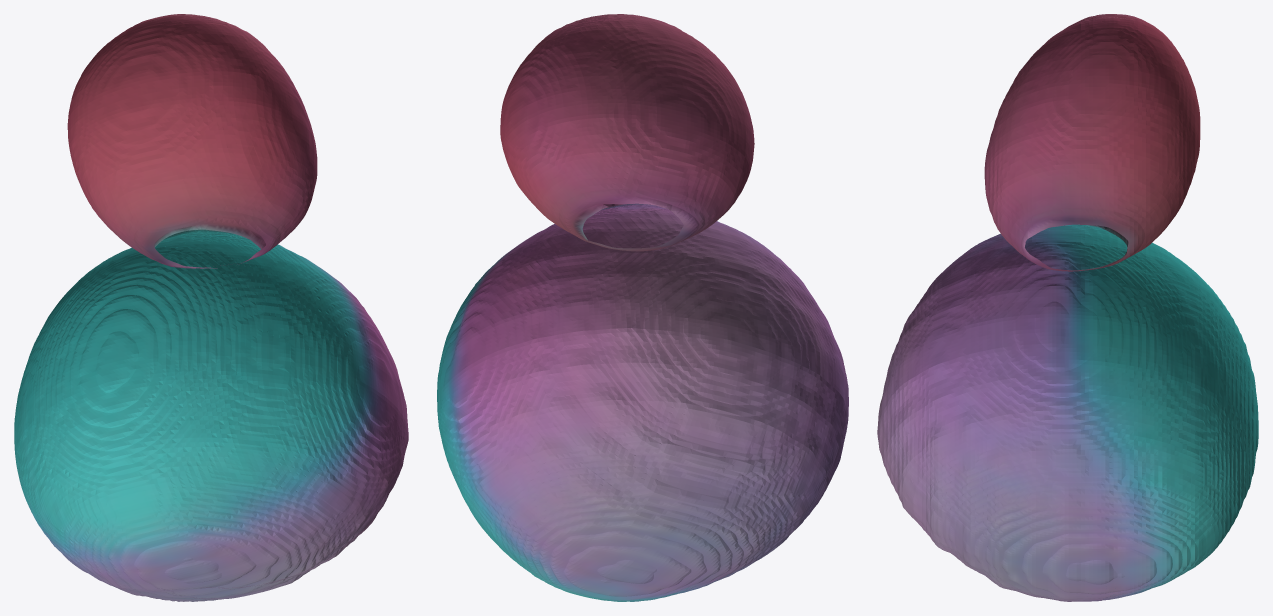
3 renders of one model, left to right at view 1: azimuth 30°, elevation 25°; view 2: azimuth 150°, elevation 25°; view 3: azimuth 270°, elevation 25°, orthographic. The views are drawn at different scales.
Visible parts, largest first — view 1: geometry_0; view 2: geometry_0; view 3: geometry_0.
Boxes of the visible parts, x1,y1,x2,y2 form: geometry_0: (14,14,408,601); geometry_0: (437,14,848,601); geometry_0: (877,14,1258,601).
Bounding box in the file's own units: 1.08 × 1.6 × 1.02.
